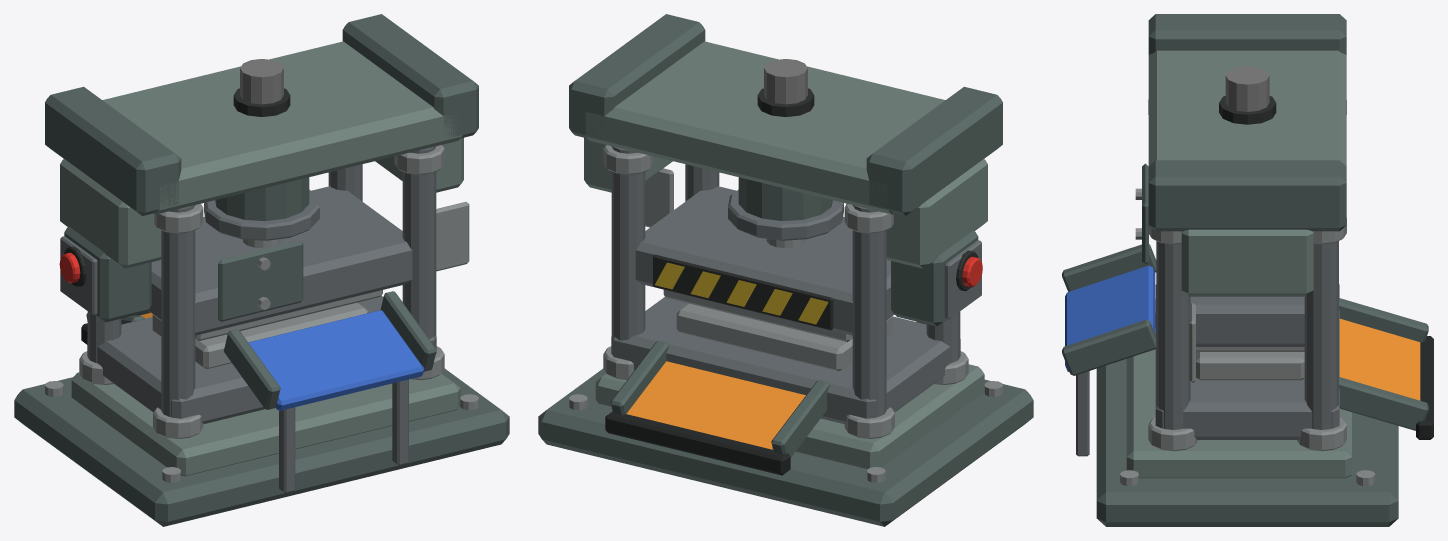
Rendered from press.glb.
The picture shows the model from 3 angles, left to right: view 1: azimuth 30°, elevation 25°; view 2: azimuth 150°, elevation 25°; view 3: azimuth 270°, elevation 25°; orthographic projection.
Visible parts, largest first — view 1: press, Lamp; view 2: press, Lamp; view 3: press, Lamp.
Part boxes in pixels (x1,y1,x2,y2): press: (14,14,509,526); Lamp: (240,59,283,104); press: (538,14,1033,526); Lamp: (764,59,807,104); press: (1062,14,1433,526); Lamp: (1225,66,1269,111).
Bounding box in the file's own units: 1.58 × 1.48 × 1.35.
